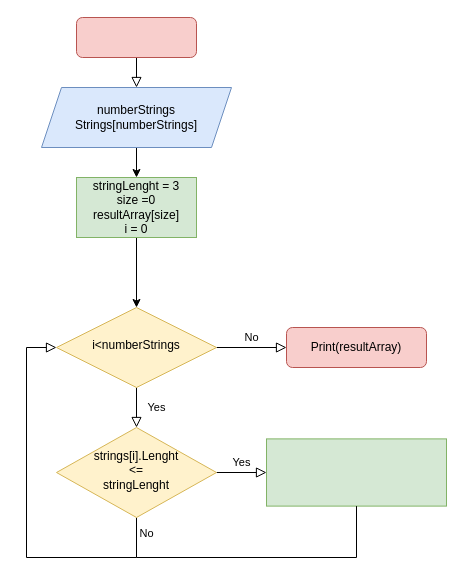
Image size: 464x585. Some labels were removed from this diagram. Each missing label, with the centre of its shape:
Begin: point (136, 37)
size++ resize(resultArray[size]) resultArray[size-1] = strings[i]: point (356, 472)
